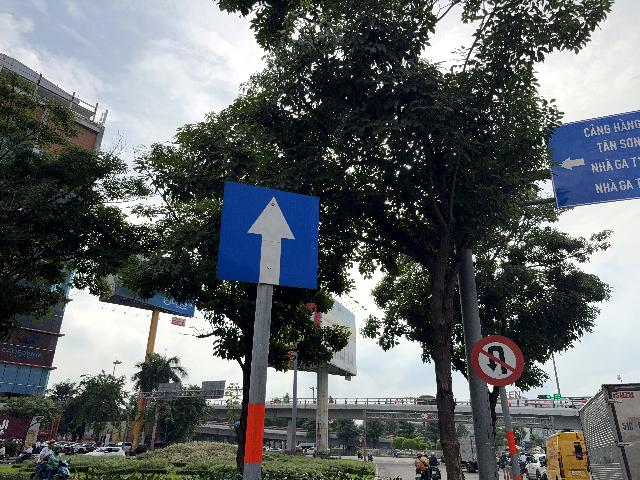cam-quay-dau-xe: (470, 334, 524, 387)
duong-mot-chieu: (215, 180, 320, 290)
